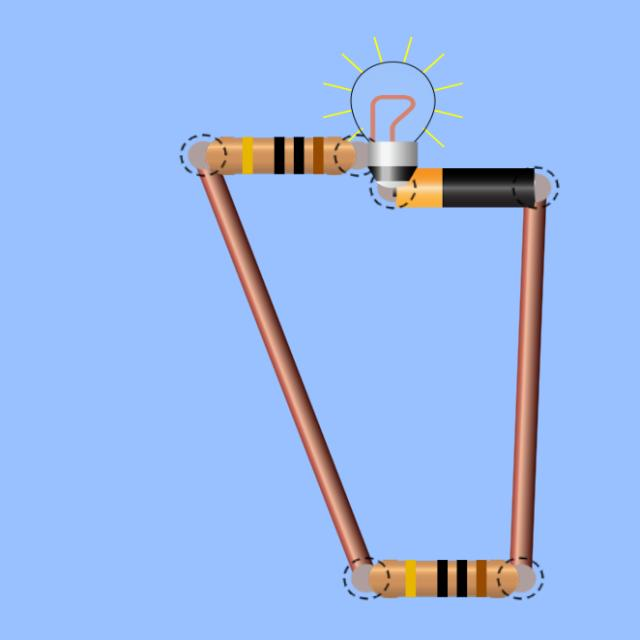Battery: (397, 168, 534, 207)
Light Bulb: (350, 61, 435, 188)
Resistor: (206, 136, 356, 175)
Wire: (198, 169, 372, 571), (510, 200, 545, 567), (370, 560, 518, 598)
